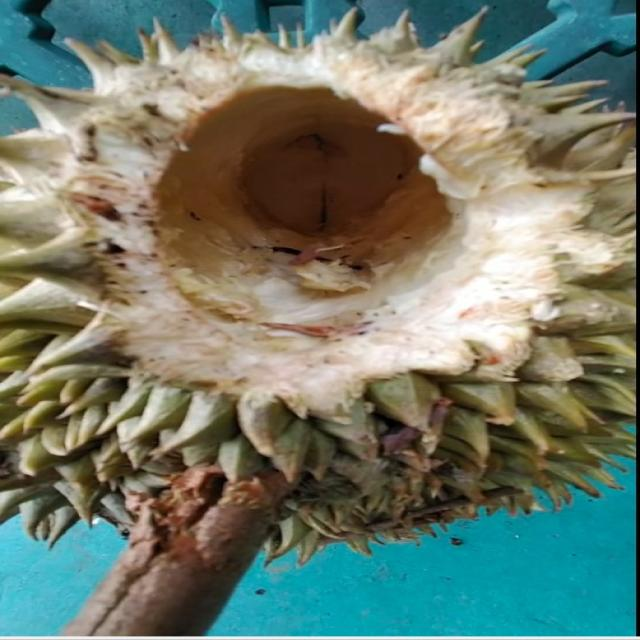defective: (3, 7, 640, 556)
